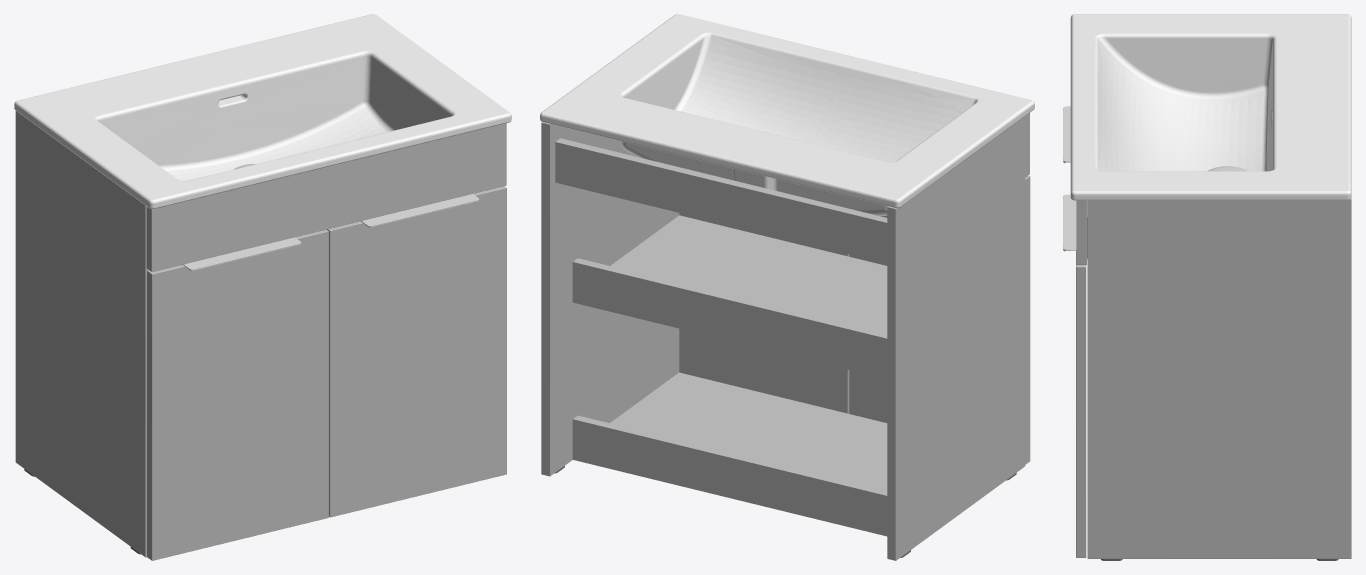
File: AEC_43435.glb
3 renders of one model, left to right at view 1: azimuth 30°, elevation 25°; view 2: azimuth 150°, elevation 25°; view 3: azimuth 270°, elevation 25°, orthographic. The views are drawn at different scales.
Parts seen in each view (by area): view 1: 0; view 2: 0; view 3: 0.
Boxes of the visible parts, box(x1,y1,x2,y2) form: 0: box(14, 14, 511, 560); 0: box(540, 14, 1034, 560); 0: box(1063, 14, 1351, 560).
Bounding box in the file's own units: 0.65 × 0.626 × 0.4414.
Materials: 1 (1 with a texture image).
